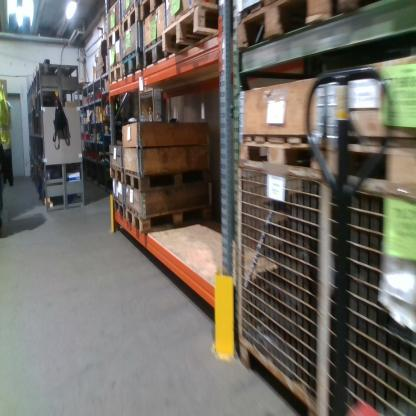pallet: (234, 130, 336, 187), (235, 2, 335, 54), (346, 130, 415, 201), (162, 1, 222, 57), (126, 203, 213, 232), (122, 166, 209, 189), (142, 33, 165, 75), (122, 46, 145, 80), (122, 4, 140, 38), (335, 4, 381, 17), (105, 19, 123, 48), (139, 3, 166, 20), (107, 58, 124, 84), (109, 158, 124, 184), (113, 198, 126, 217)
pallet_truck: (301, 66, 392, 416)
stillage: (232, 153, 324, 413), (325, 165, 416, 416)
